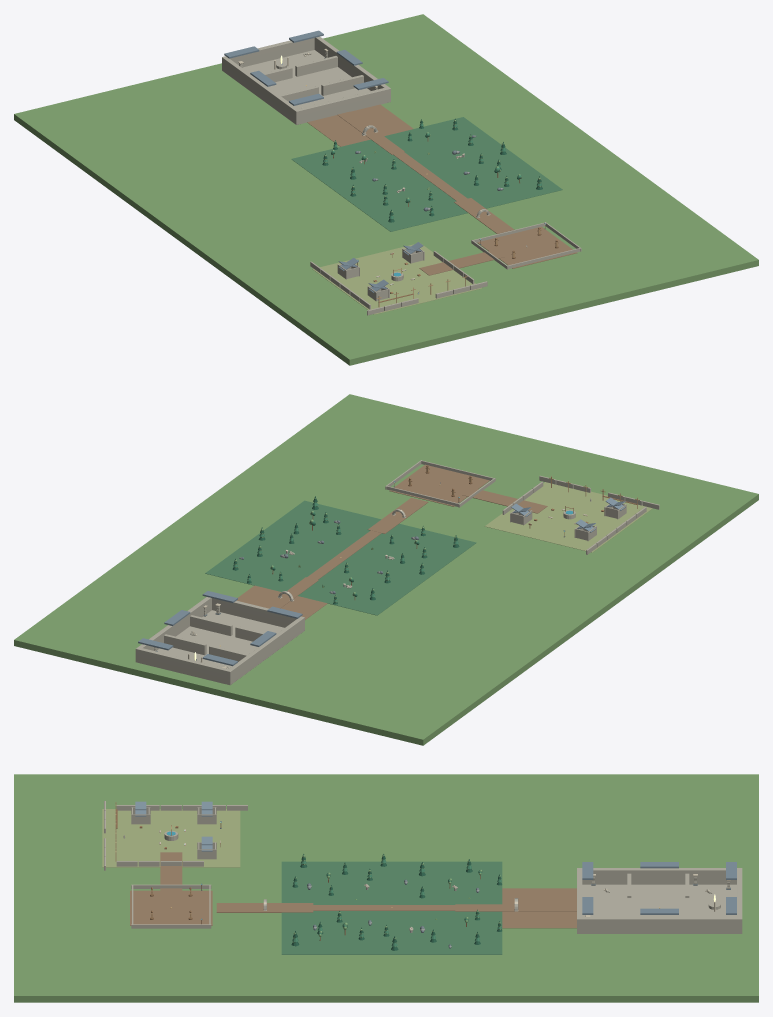
The model's file is SM_StartingReach_Blockout.fbx.
The picture shows the model from 3 angles, top to bottom: view 1: azimuth 30°, elevation 25°; view 2: azimuth 150°, elevation 25°; view 3: azimuth 270°, elevation 25°; orthographic projection. The views are drawn at different scales.
Visible parts, largest first — view 1: Continuous playable footprint, Grauwaldrand • 80 × 80 m, Brunnfeld • 50 × 50 m, Ruin interior • 40 × 60 m, Klingenhof • 30 × 30 m, Ruin approach, Ruin end wall, Ruin outer wall, Ruin end wall.001, Ruin outer wall.001, Road • north gate, Road • Brunnfeld to Klingenhof (+2 smaller); view 2: Continuous playable footprint, Grauwaldrand • 80 × 80 m, Brunnfeld • 50 × 50 m, Ruin interior • 40 × 60 m, Klingenhof • 30 × 30 m, Ruin end wall.001, Ruin outer wall, Ruin approach, Ruin end wall, Ruin outer wall.001, Road • north gate, Forest trail (+1 smaller); view 3: Continuous playable footprint, Grauwaldrand • 80 × 80 m, Brunnfeld • 50 × 50 m, Ruin interior • 40 × 60 m, Ruin outer wall.001, Klingenhof • 30 × 30 m, Ruin approach, Ruin outer wall, Road • north gate, Ruin approach path, Forest trail, Road • Brunnfeld to Klingenhof (+1 smaller).
Boxes of the visible parts, x1,y1,x2,y2 form: Continuous playable footprint: (14,14,758,365); Grauwaldrand • 80 × 80 m: (291,117,562,231); Brunnfeld • 50 × 50 m: (312,243,481,314); Ruin interior • 40 × 60 m: (242,50,386,123); Klingenhof • 30 × 30 m: (477,226,577,268); Ruin approach: (307,104,413,146); Ruin end wall: (298,88,388,124); Ruin outer wall: (222,56,299,124); Ruin end wall.001: (224,38,314,67); Ruin outer wall.001: (314,36,390,102); Road • north gate: (454,198,514,233); Road • Brunnfeld to Klingenhof: (419,250,504,275); Continuous playable footprint: (14,394,758,745); Grauwaldrand • 80 × 80 m: (205,500,476,615); Brunnfeld • 50 × 50 m: (485,482,652,552); Ruin interior • 40 × 60 m: (140,610,284,684); Klingenhof • 30 × 30 m: (389,464,489,506); Ruin end wall.001: (138,647,229,684); Ruin outer wall: (226,616,304,685); Ruin approach: (237,585,327,619); Ruin end wall: (212,598,296,627); Ruin outer wall.001: (135,597,211,662); Road • north gate: (368,497,428,533); Forest trail: (307,530,381,579); Continuous playable footprint: (14,774,758,1002); Grauwaldrand • 80 × 80 m: (281,861,502,954); Brunnfeld • 50 × 50 m: (102,809,240,867); Ruin interior • 40 × 60 m: (582,884,736,916); Ruin outer wall.001: (577,917,742,933); Klingenhof • 30 × 30 m: (130,890,212,925); Ruin approach: (502,888,576,928); Ruin outer wall: (577,868,742,884); Road • north gate: (216,903,313,912); Ruin approach path: (455,904,576,911); Forest trail: (313,905,455,910); Road • Brunnfeld to Klingenhof: (160,852,182,893).
Bounding box in the file's own units: 190 × 11.33 × 270.
